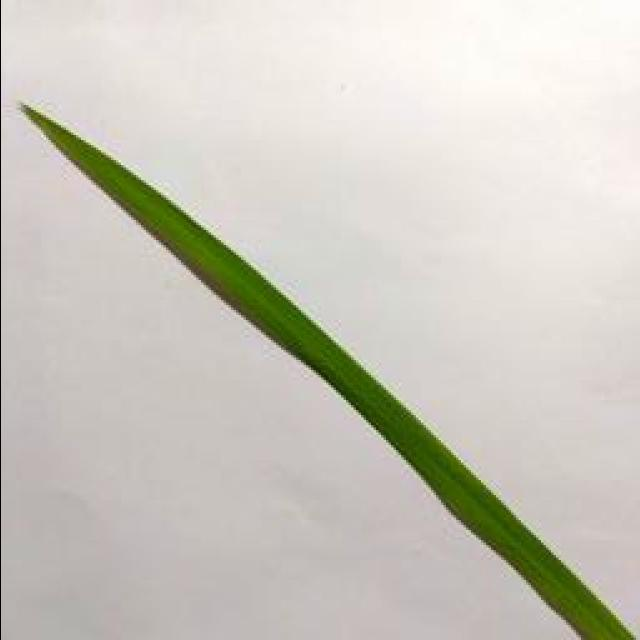Healthy: (15, 101, 635, 640)
